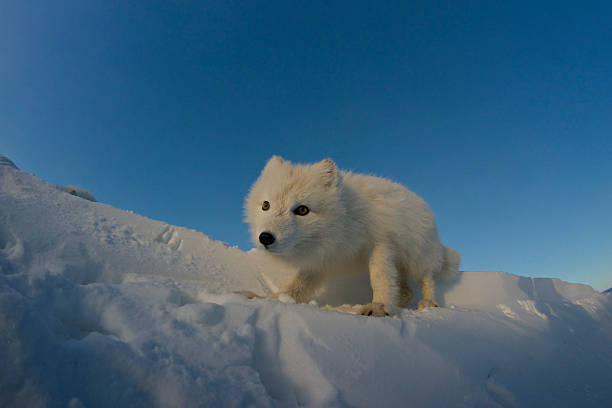arcticfox: (246, 184, 330, 274)
